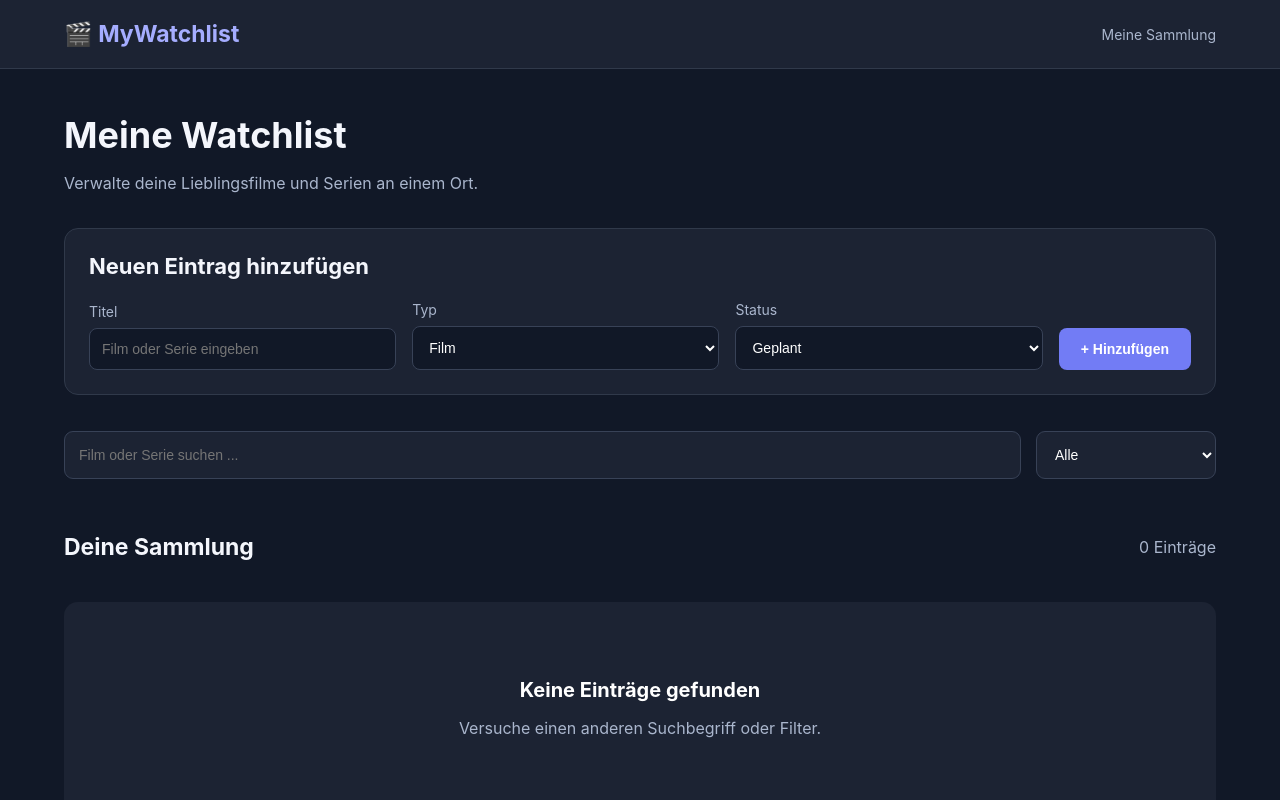
it: MyWatchlist – Frontend › zeigt Backend-Validierungsfehler direkt am Titelfeld an
Type "Inception" into the field with id "title".
click(243, 349); type("Inception")  # box [89,328,396,370]
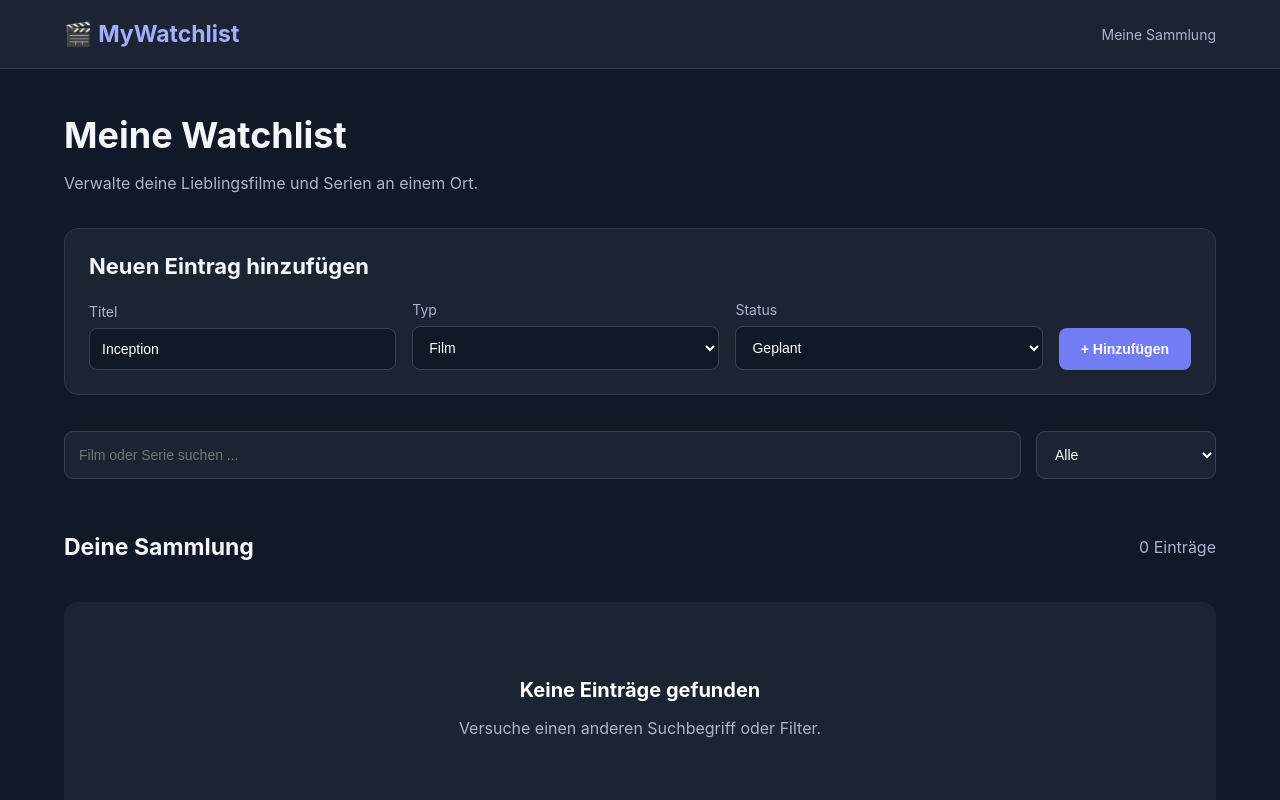
Submit the form, box [89,301,1191,370]
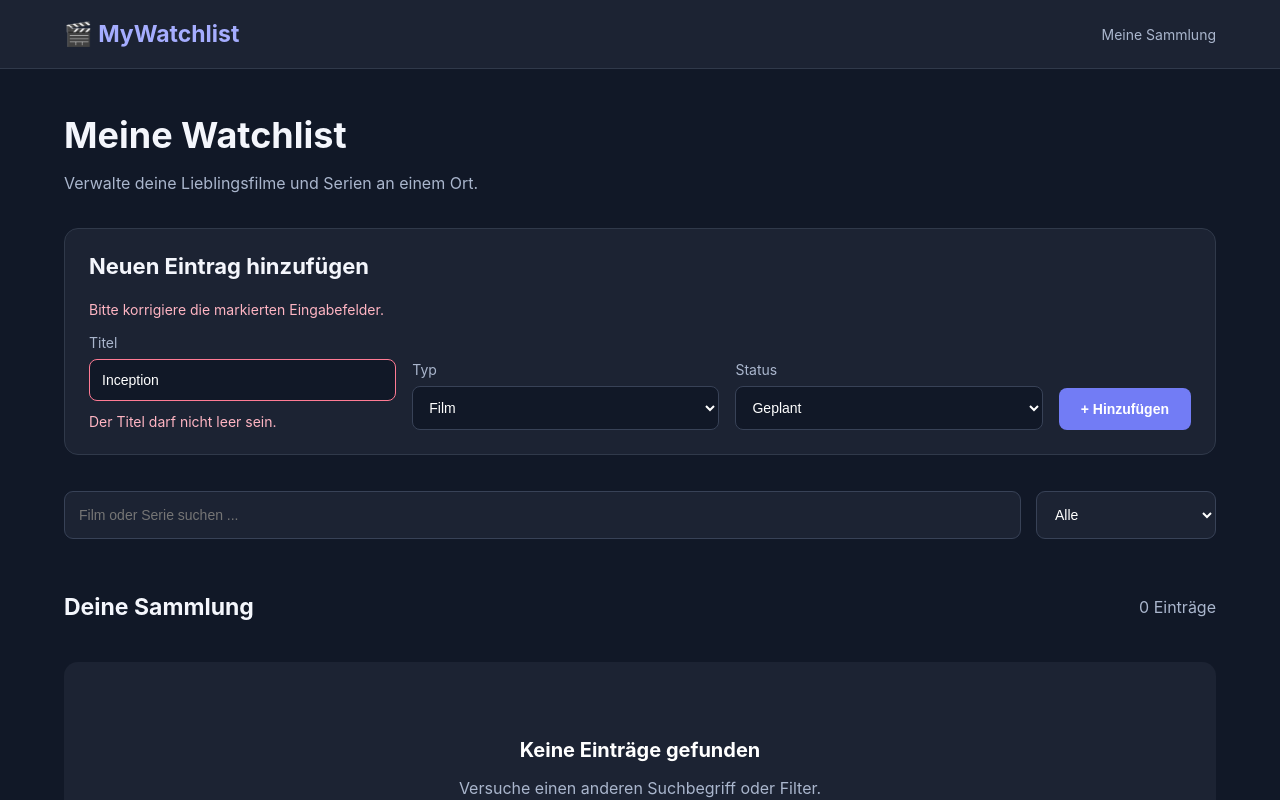
Now the text with id "title-error" reads "Der Titel darf nicht leer sein.", box [89,413,276,430]
